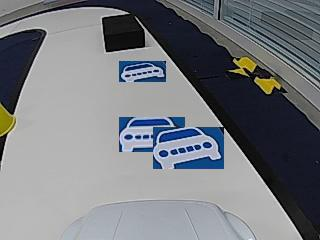block: (103, 14, 145, 51)
cone: (0, 103, 15, 137)
